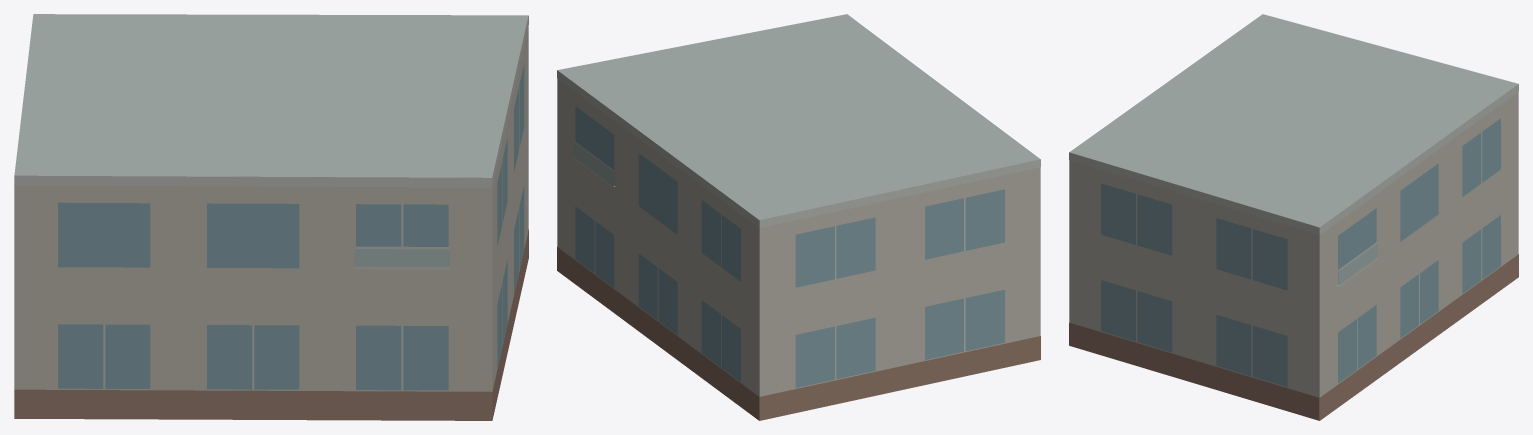
File: survey-upis-32771666.glb
3 views of the same model, side by side, from view 1: azimuth 30°, elevation 25°; view 2: azimuth 150°, elevation 25°; view 3: azimuth 270°, elevation 25° (orthographic). The views are drawn at different scales.
Parts seen in each view (by area): view 1: survey-upis-32771666.tmp; view 2: survey-upis-32771666.tmp; view 3: survey-upis-32771666.tmp.
Boxes of the visible parts, <box> form: survey-upis-32771666.tmp: <box>14,14,528,420</box>; survey-upis-32771666.tmp: <box>557,14,1040,420</box>; survey-upis-32771666.tmp: <box>1069,14,1518,420</box>.
Bounding box in the file's own units: 14.46 × 6.1 × 12.86.
